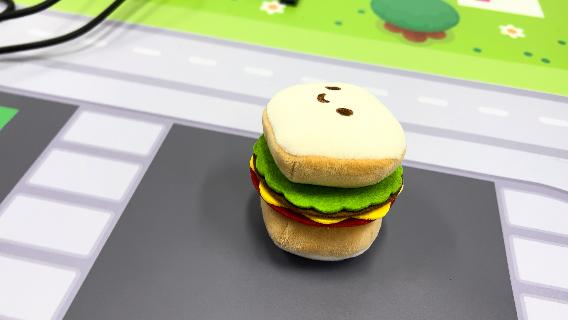sandwich: (247, 79, 409, 263)
